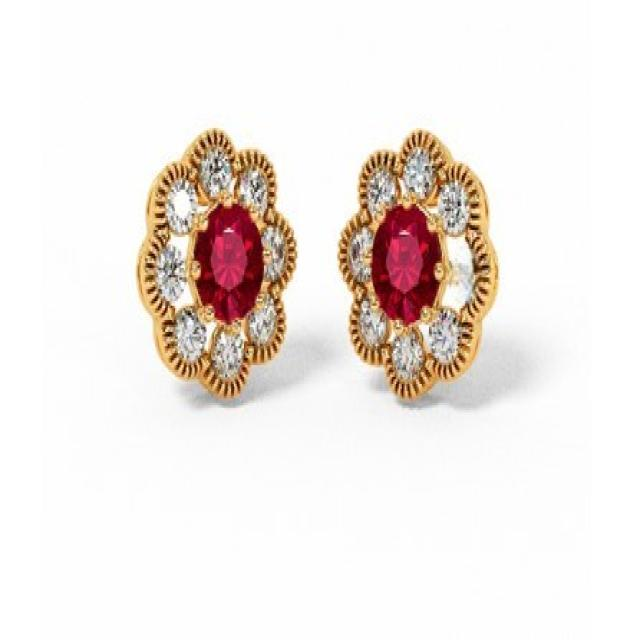missing gem: (447, 262, 472, 303)
